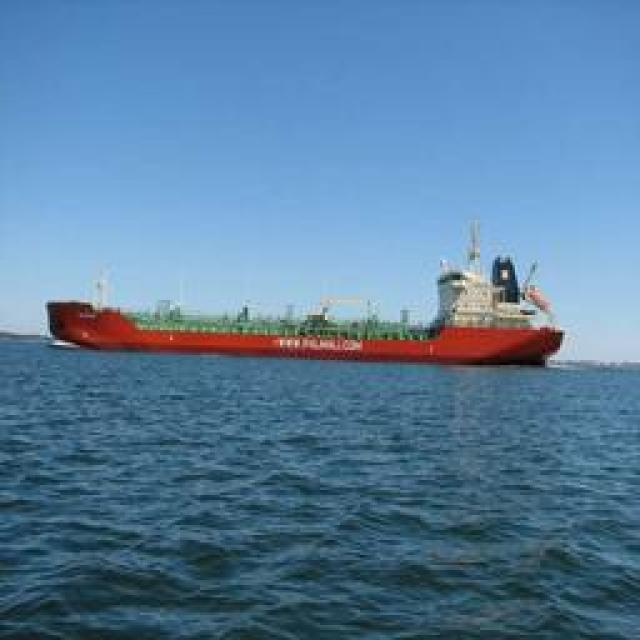CIV_Ship: (61, 246, 561, 366)
